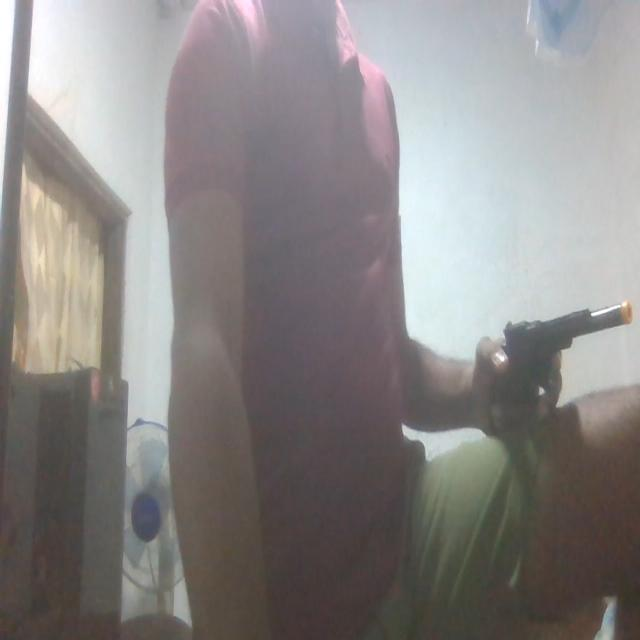Gun_Holder: (479, 282, 631, 449)
Person: (155, 0, 640, 640)
